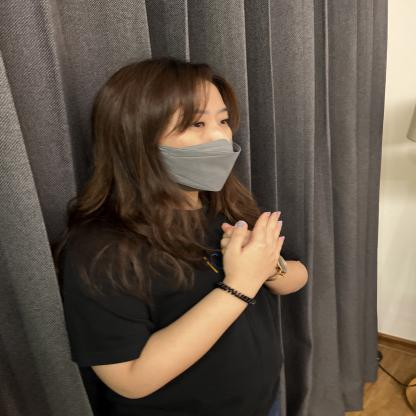Grieve: (166, 186, 378, 360)
